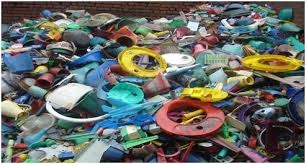plastic: (153, 98, 227, 139), (43, 80, 111, 121), (115, 43, 170, 79), (239, 52, 304, 73), (3, 51, 36, 76), (73, 48, 105, 66), (226, 75, 259, 89), (35, 71, 58, 87), (48, 64, 72, 79)
